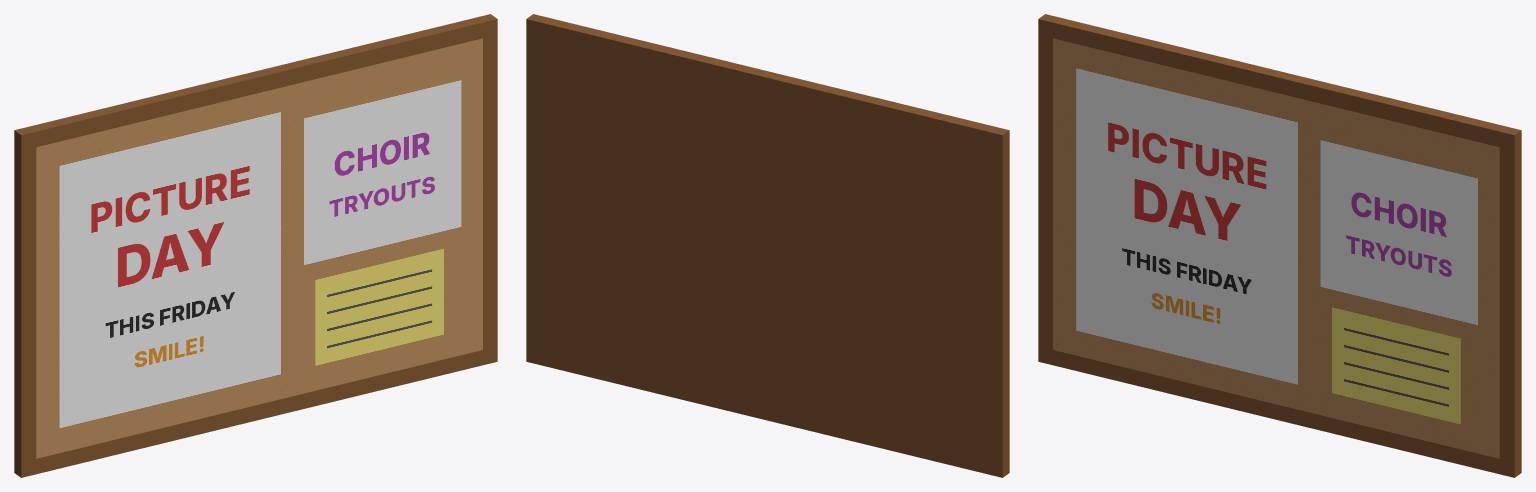
The model's file is bulletin_board.glb.
3 renders of one model, left to right at view 1: azimuth 30°, elevation 25°; view 2: azimuth 150°, elevation 25°; view 3: azimuth 330°, elevation 25°, orthographic.
Parts seen in each view (by area): view 1: bulletin_board; view 2: bulletin_board; view 3: bulletin_board.
Boxes of the visible parts, x1,y1,x2,y2 form: bulletin_board: (14, 14, 497, 477); bulletin_board: (526, 14, 1009, 477); bulletin_board: (1038, 14, 1521, 477).
Bounding box in the file's own units: 1.6 × 1.1 × 0.041.
2 materials, 1 textured.
